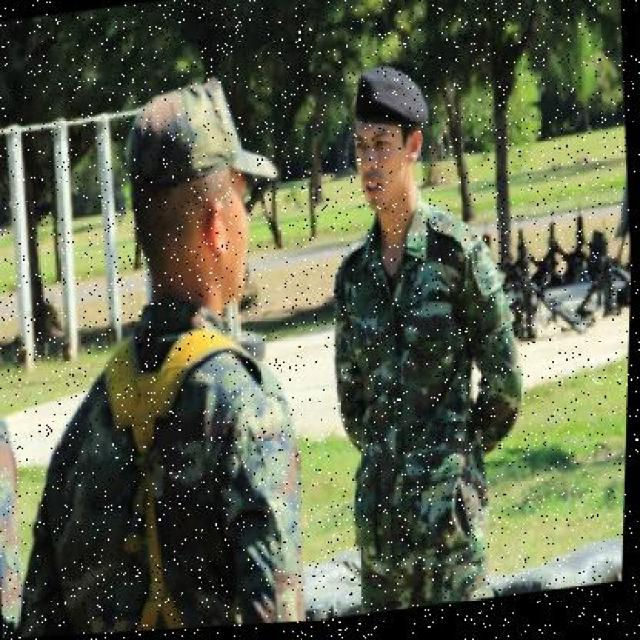MIL_Pax: (60, 60, 323, 637), (314, 44, 508, 616)
